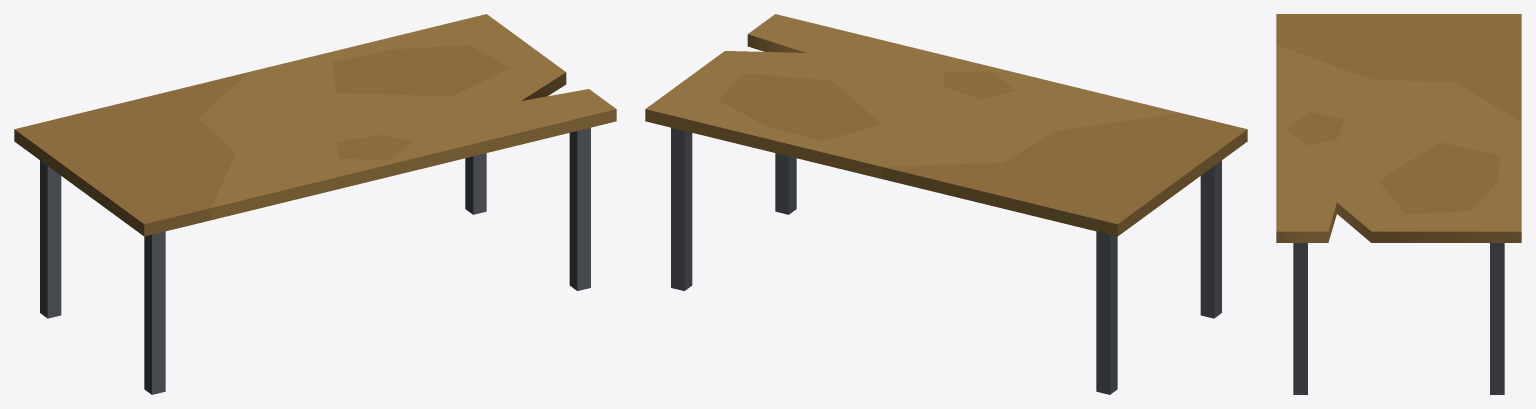
Rendered from AI_Prop_Table_02.fbx.
3 renders of one model, left to right at view 1: azimuth 30°, elevation 25°; view 2: azimuth 150°, elevation 25°; view 3: azimuth 270°, elevation 25°, orthographic. The views are drawn at different scales.
Visible parts, largest first — view 1: AI_Prop_Table_02; view 2: AI_Prop_Table_02; view 3: AI_Prop_Table_02.
Boxes of the visible parts, x1,y1,x2,y2 form: AI_Prop_Table_02: (14, 14, 616, 394); AI_Prop_Table_02: (645, 14, 1247, 394); AI_Prop_Table_02: (1276, 14, 1521, 394).
Size of the model in its own units: 3.7 by 1.36 by 1.76.
